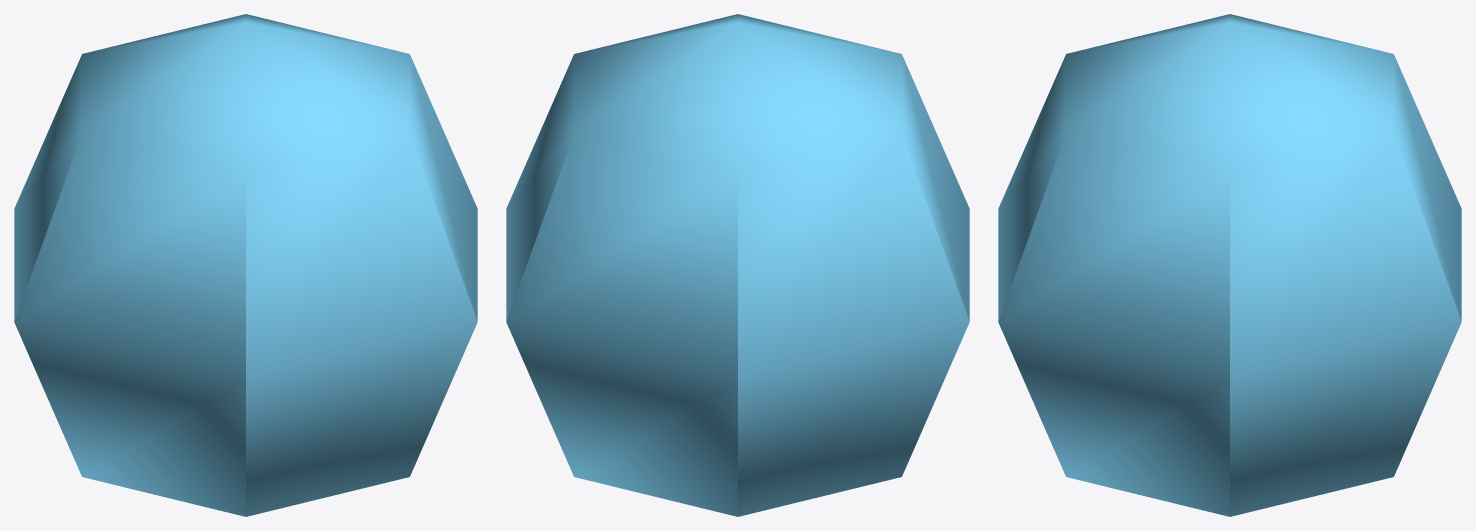
Rendered from fxlib-trail.glb.
3 views of the same model, side by side, from view 1: azimuth 30°, elevation 25°; view 2: azimuth 150°, elevation 25°; view 3: azimuth 270°, elevation 25° (orthographic).
Parts seen in each view (by area): view 1: Wisp; view 2: Wisp; view 3: Wisp.
Boxes of the visible parts, box(x1,y1,x2,y2) form: Wisp: box(14, 14, 477, 516); Wisp: box(506, 14, 969, 516); Wisp: box(998, 14, 1461, 516).
Size of the model in its own units: 0.016 by 0.016 by 0.0139.
